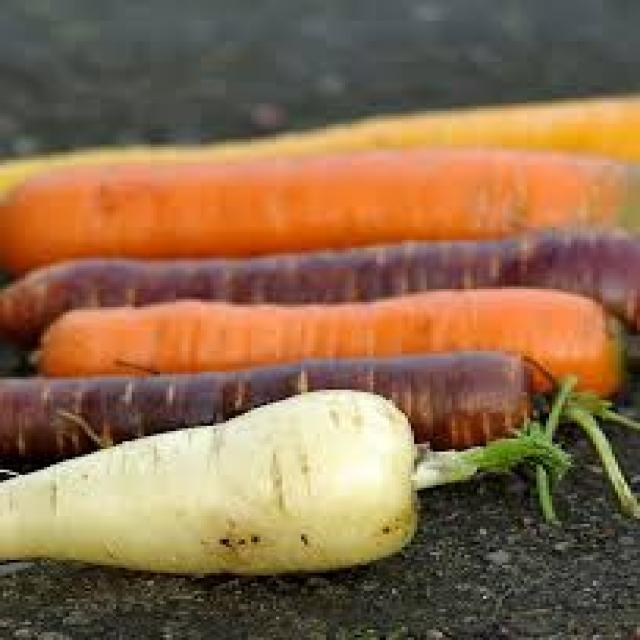organic waste: (0, 380, 568, 570), (0, 348, 637, 511), (0, 145, 637, 276), (0, 222, 637, 351), (28, 294, 637, 410), (0, 96, 637, 196)
